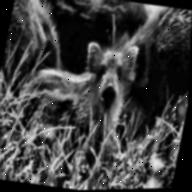boar: (7, 30, 182, 161), (112, 2, 192, 123), (0, 0, 70, 80)
